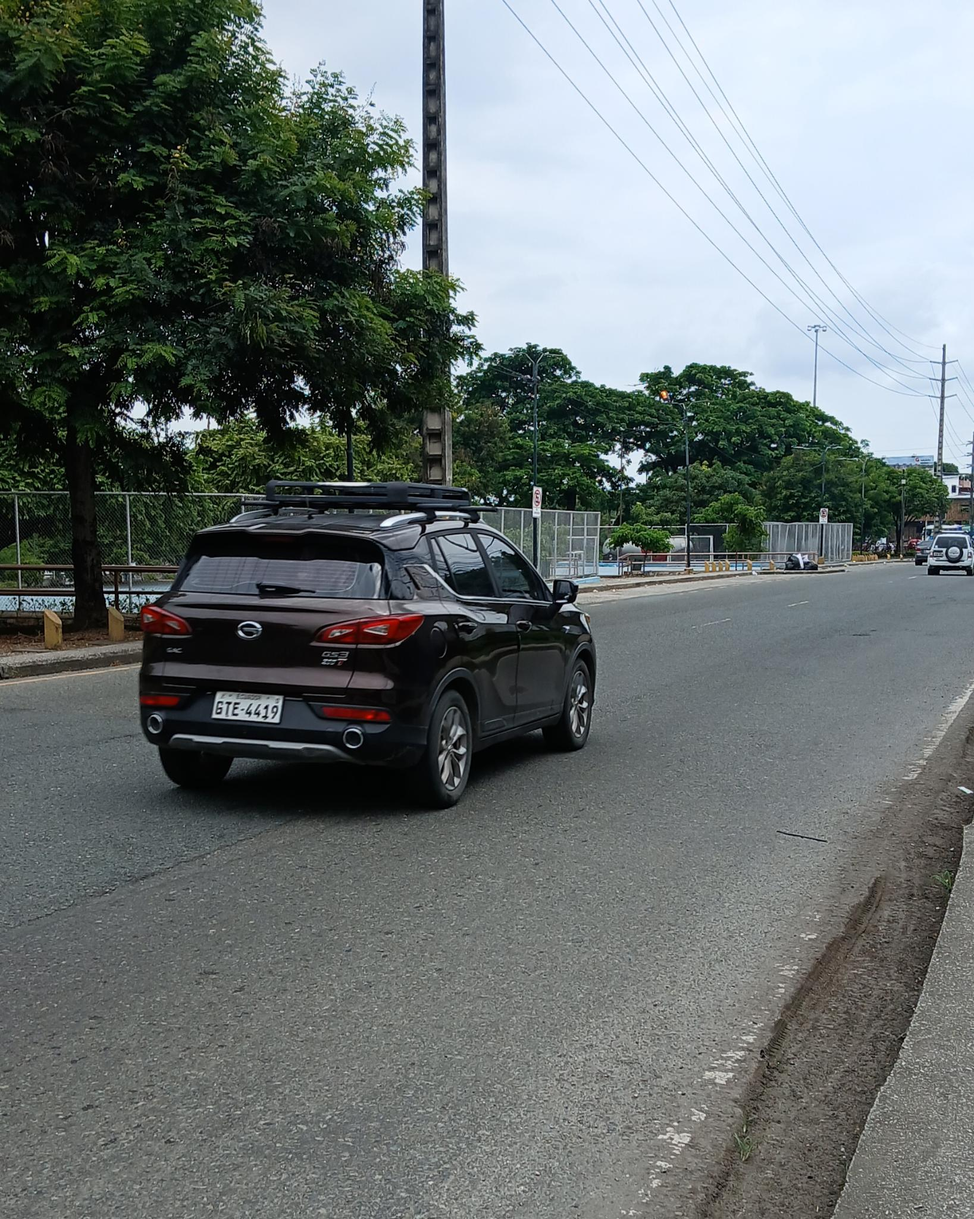license_plate: (210, 691, 282, 723)
